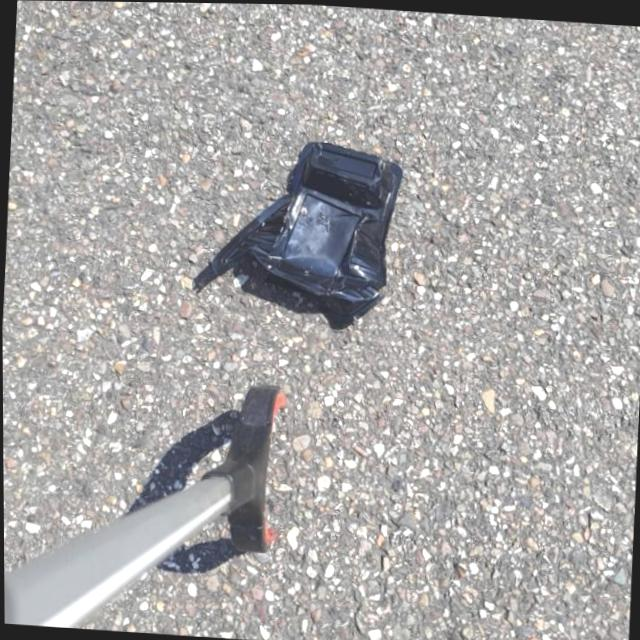Plastic: (188, 129, 405, 320)
